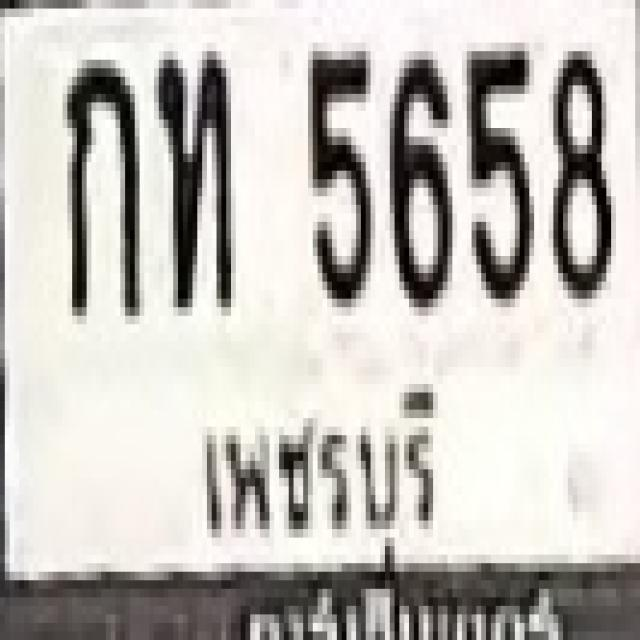-: (154, 43, 231, 307), (62, 51, 134, 316)
5: (303, 42, 371, 298), (462, 42, 529, 298)
6: (385, 42, 447, 298)
8: (549, 43, 606, 290)
PBI: (180, 362, 460, 568)
